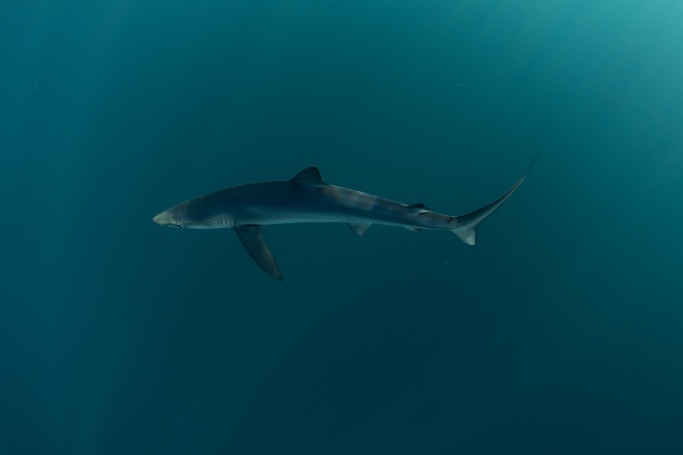Azul: (123, 137, 603, 288)
